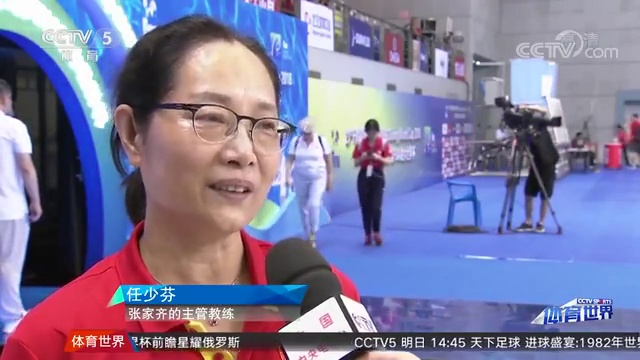face: (139, 42, 279, 227)
